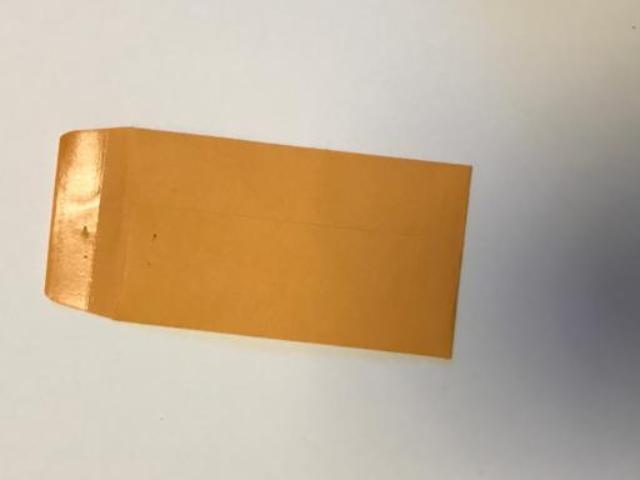cardboard paper: (44, 126, 469, 355)
